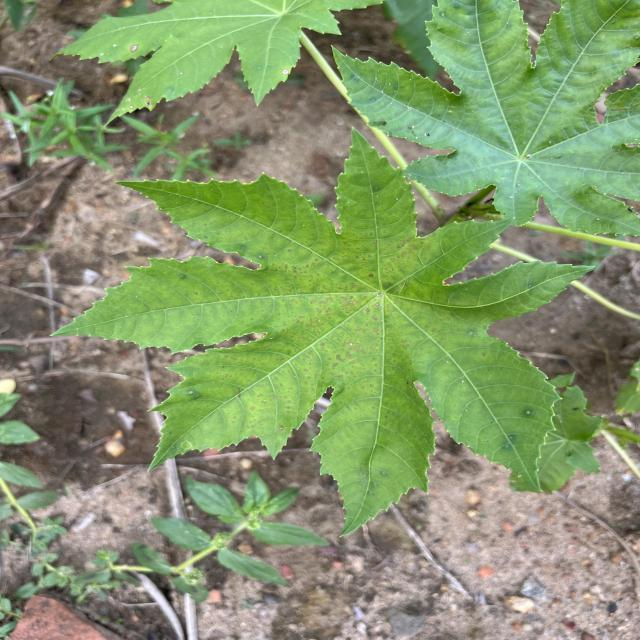Ricinus communis linn: (45, 122, 600, 541), (328, 0, 640, 240)
